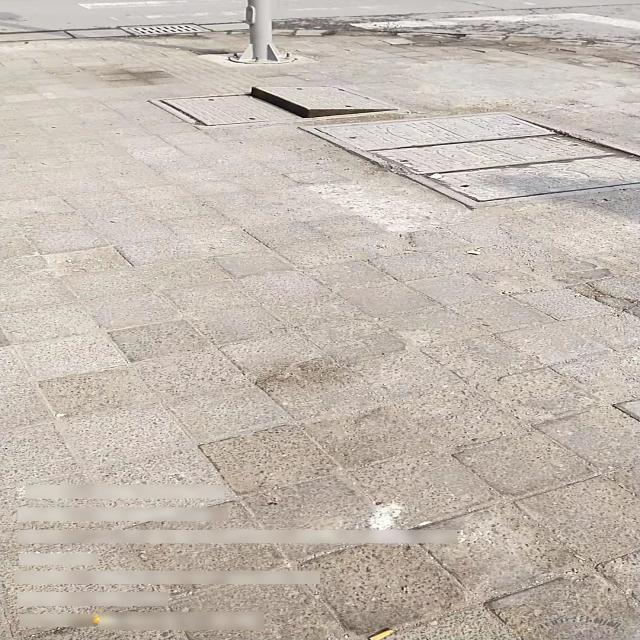Faulty: (147, 86, 407, 132)
Good: (294, 112, 640, 208)
